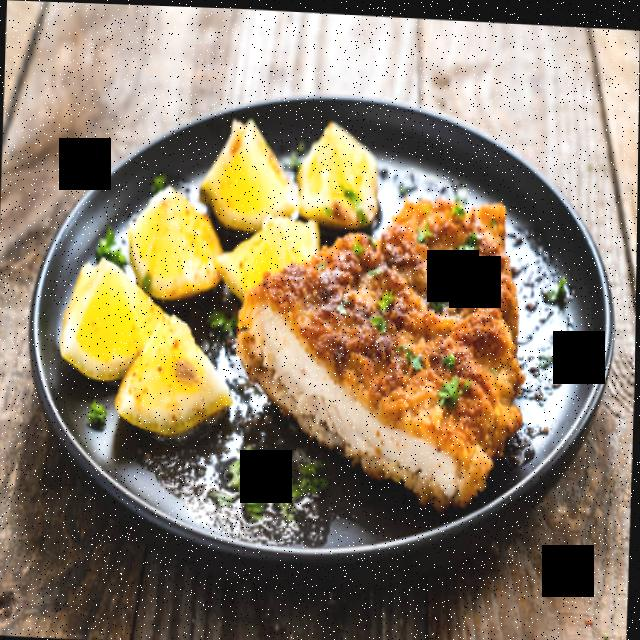Frango: (227, 171, 530, 521)
